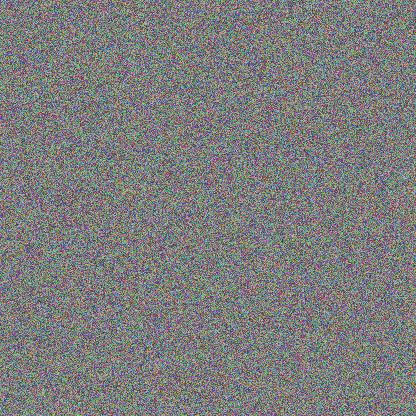empty: (249, 186, 291, 229)
occupied: (109, 250, 191, 349)
